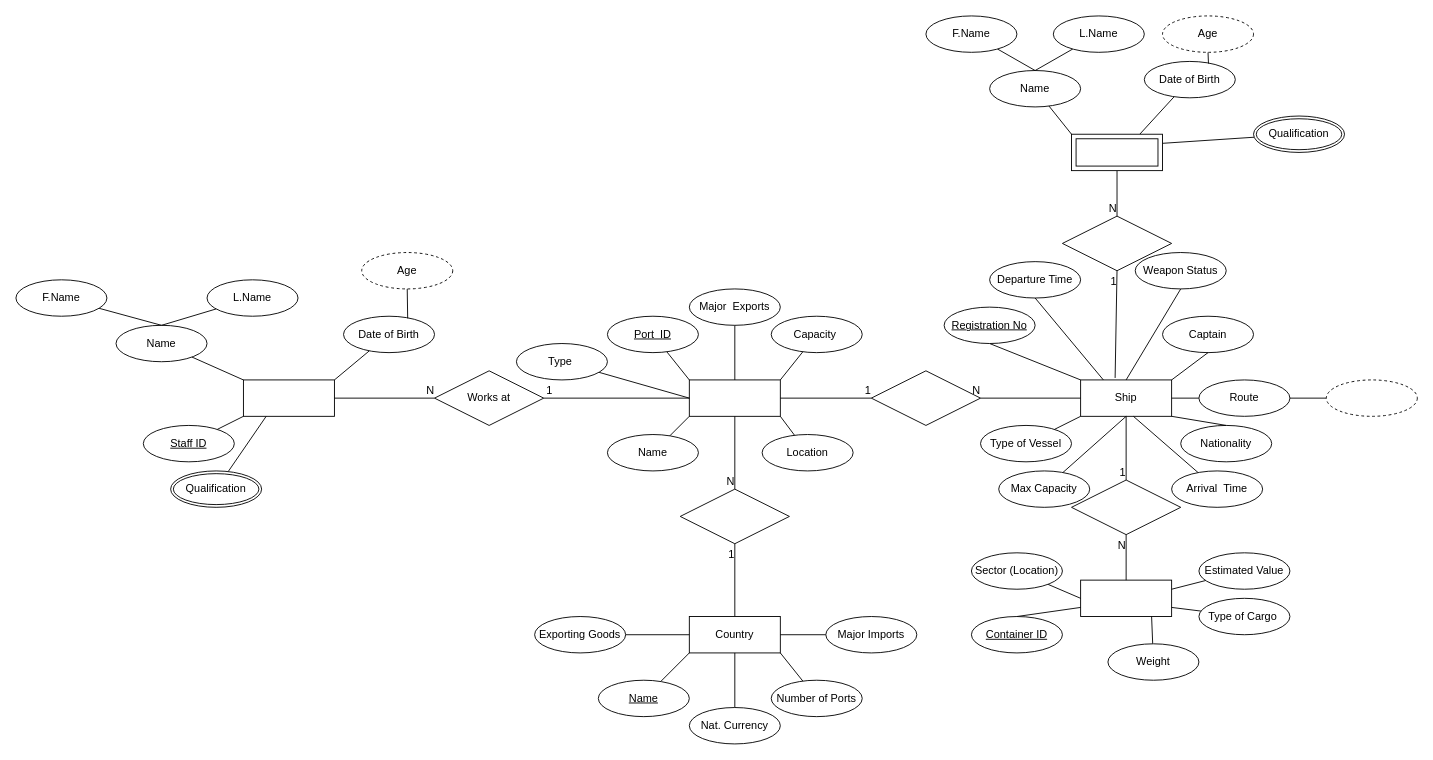
Some shapes in this 1433 by 760 pixel diagram are drawn without their labels. The shapes that lost their labels are listed below. From the top down, each one's centre as x and y in pixels, then its label:
At [1117,152]: "Crew".
At [1117,243]: "Handled By".
At [288,397]: "Port Staff".
At [734,397]: "Port".
At [925,397]: "Docked In".
At [1371,397]: "Port of Departure".
At [734,516]: "Belong to".
At [1126,507]: "Contains".
At [1126,598]: "Containers".
